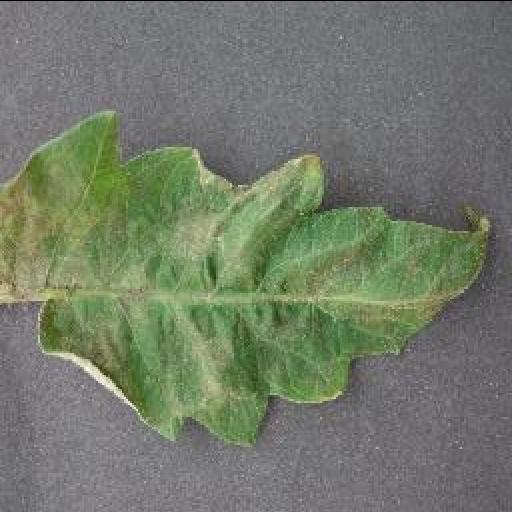disease_tomato: (0, 106, 494, 452)
